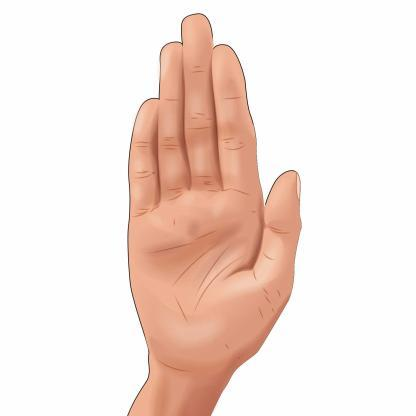stop: (125, 9, 302, 370)
